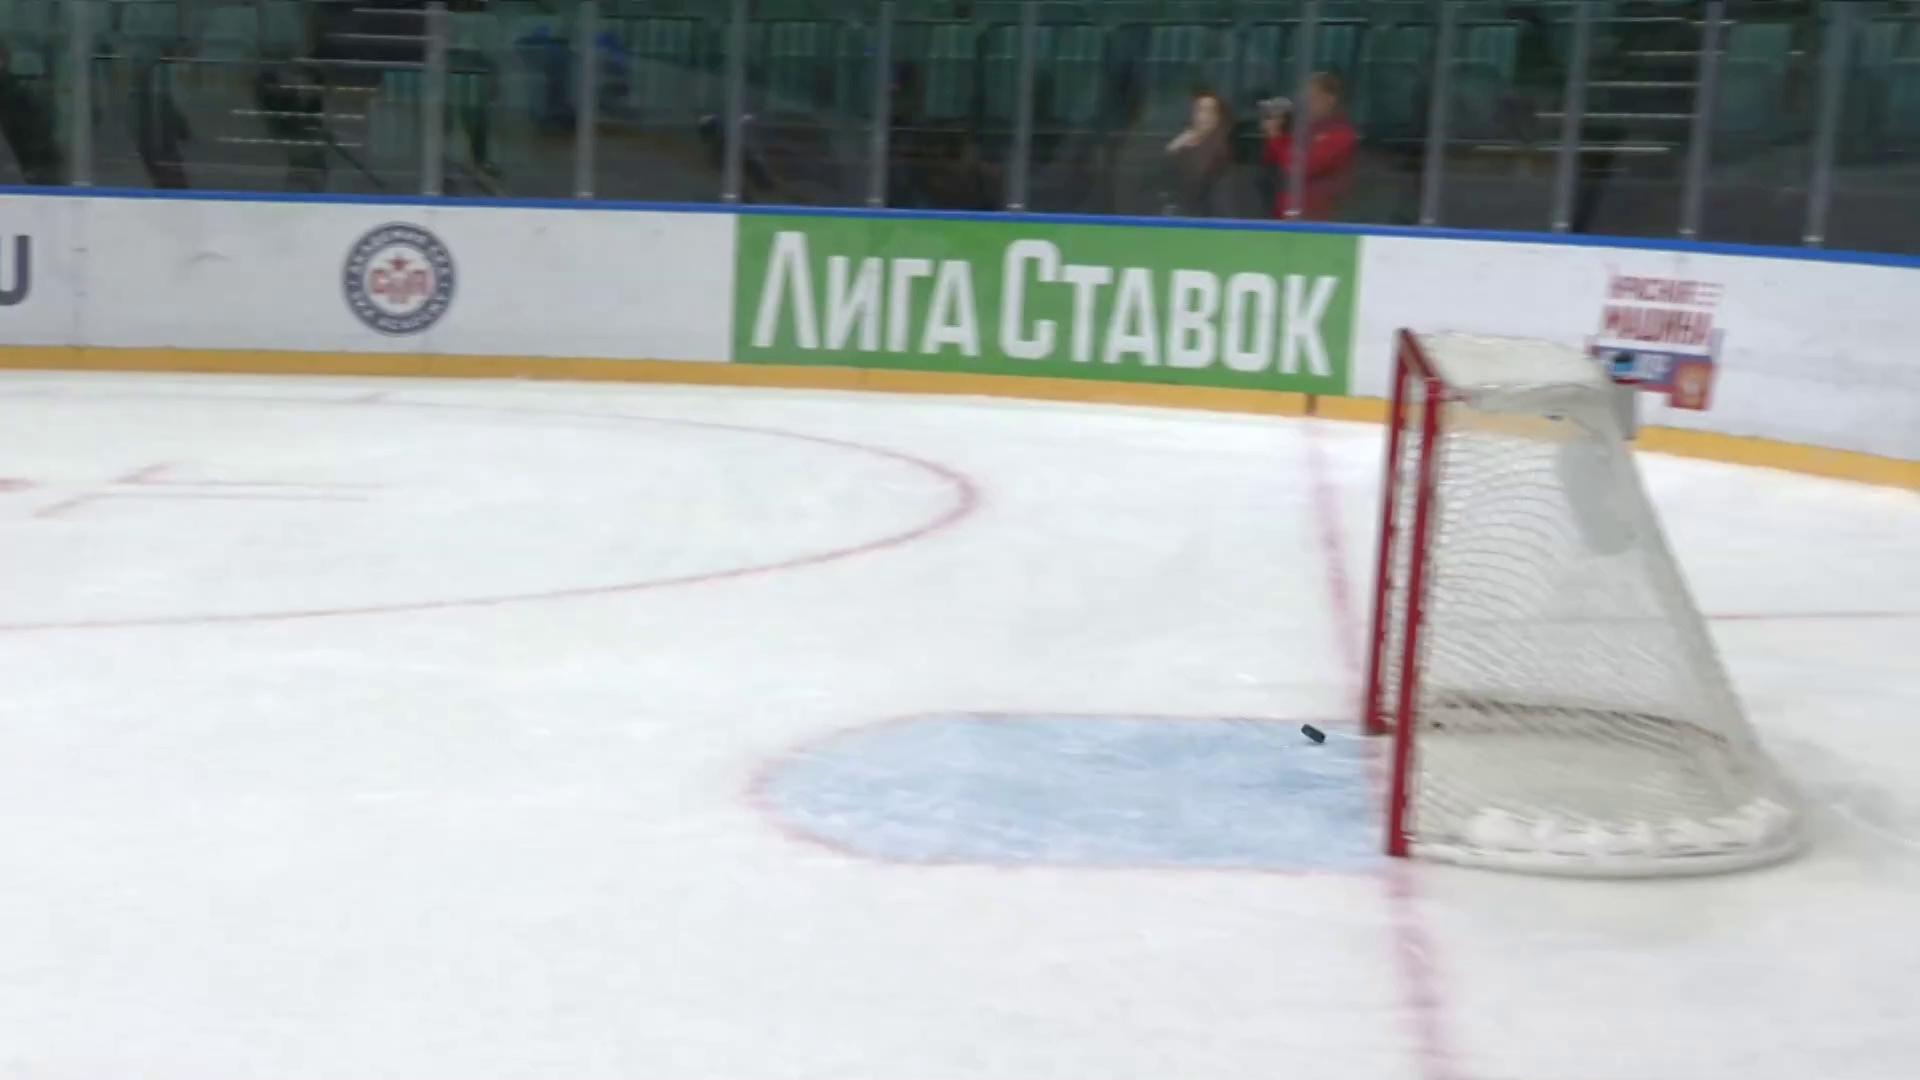ball: (1300, 724, 1325, 742)
